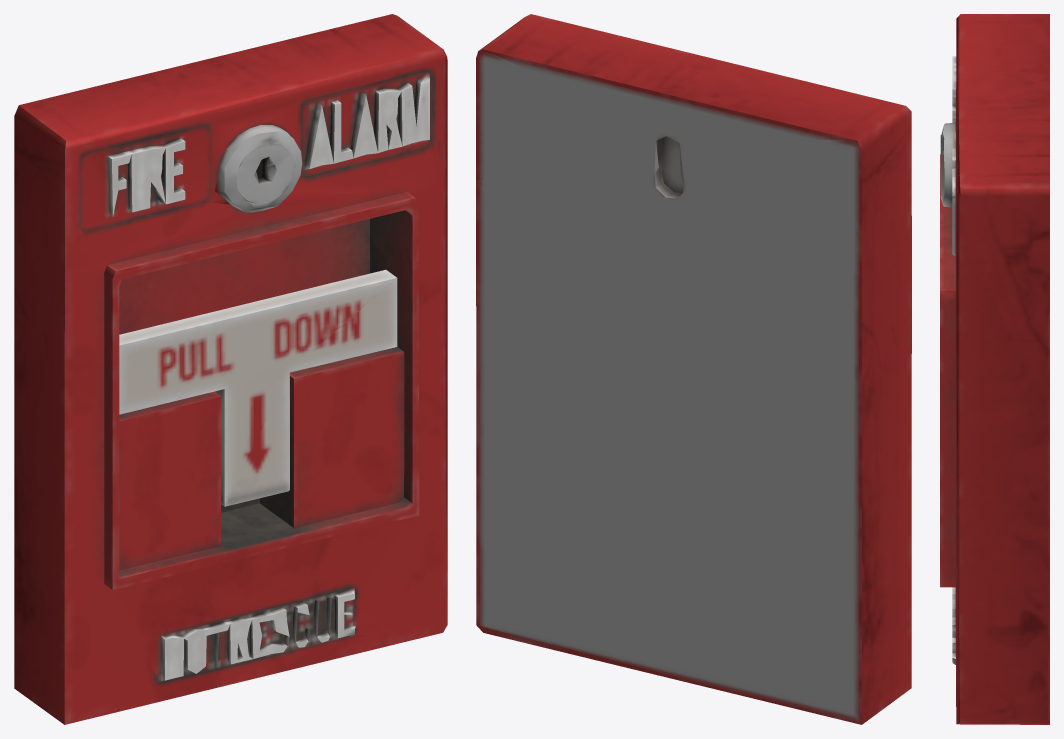
File: fire_alarm.glb
The picture shows the model from 3 angles, left to right: view 1: azimuth 30°, elevation 25°; view 2: azimuth 150°, elevation 25°; view 3: azimuth 270°, elevation 25°; orthographic projection. The views are drawn at different scales.
Parts seen in each view (by area): view 1: mesh; view 2: mesh; view 3: mesh.
Part boxes in pixels (<box>): mesh: <box>14,14,447,724</box>; mesh: <box>476,14,911,724</box>; mesh: <box>940,14,1049,724</box>.
Bounding box in the file's own units: 0.0994 × 0.1436 × 0.0264.
Materials: 1 (1 with a texture image).
